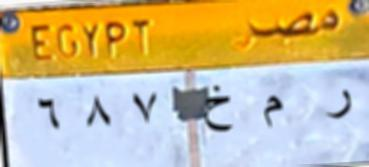6: (34, 90, 66, 138)
7: (130, 89, 161, 133)
8: (78, 90, 115, 135)
khaa: (195, 81, 235, 140)
meem: (259, 94, 286, 134)
raa: (327, 86, 352, 122)
